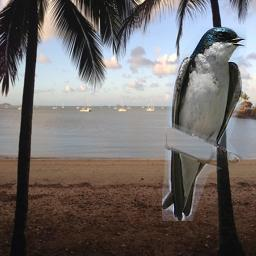Swallow: (162, 27, 247, 221)
